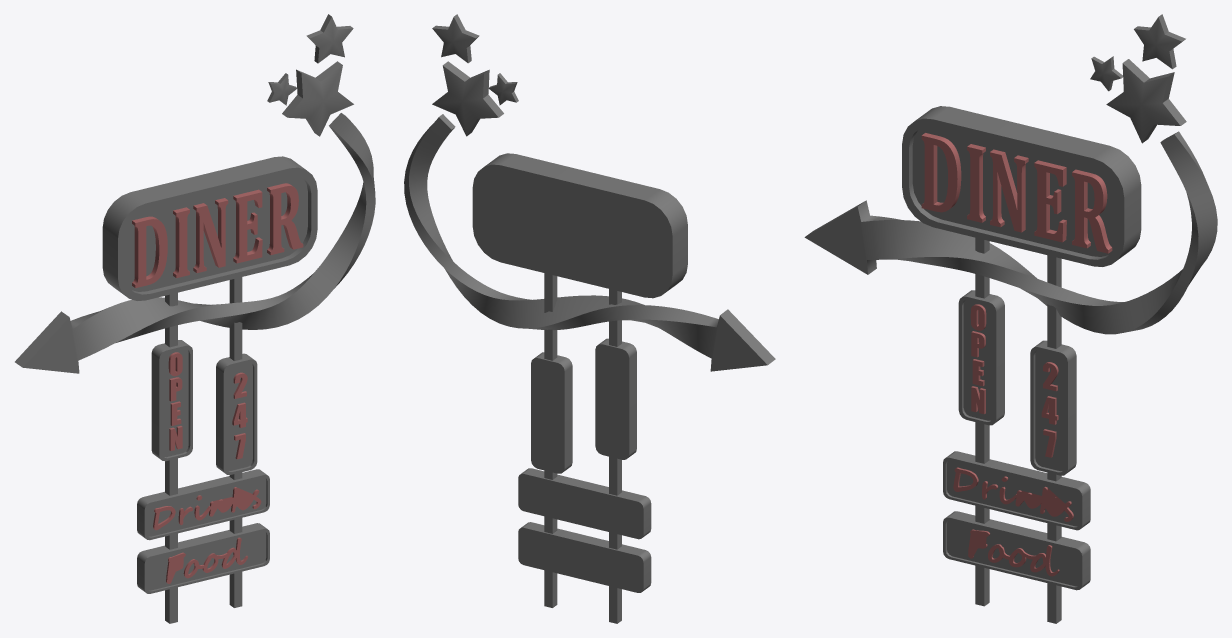
Rendered from Bigsign.fbx.
The picture shows the model from 3 angles, left to right: view 1: azimuth 30°, elevation 25°; view 2: azimuth 150°, elevation 25°; view 3: azimuth 330°, elevation 25°; orthographic projection. The views are drawn at different scales.
Visible parts, largest first — view 1: pCube591; view 2: pCube591; view 3: pCube591.
Boxes of the visible parts, bbox=[...] form: pCube591: bbox=[15, 14, 375, 623]; pCube591: bbox=[404, 14, 775, 623]; pCube591: bbox=[804, 14, 1217, 623].
Size of the model in its own units: 14.01 by 21 by 1.23.
